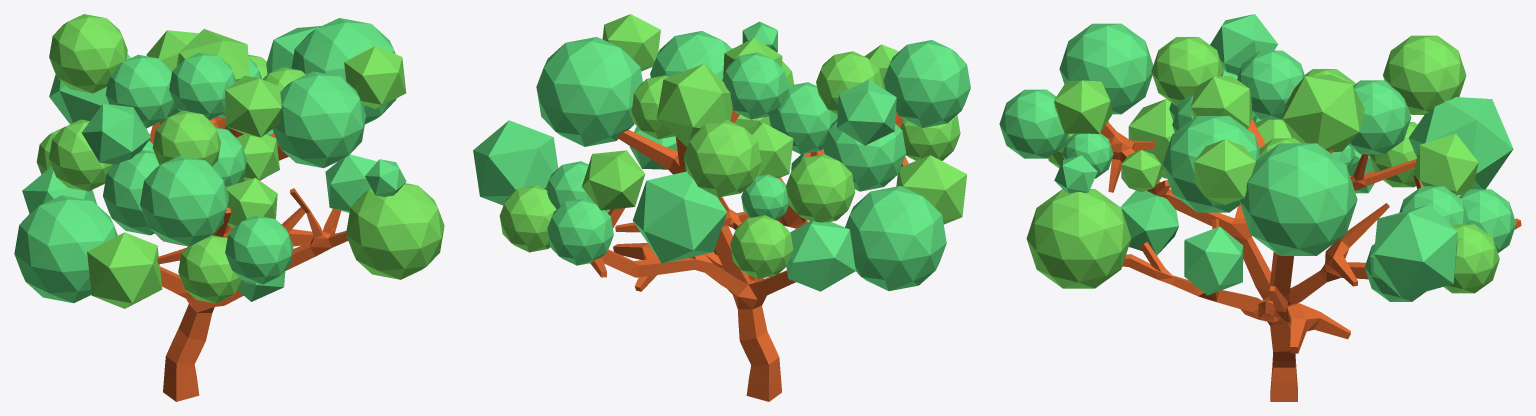
The model's file is arbol_tipo_1.fbx.
3 views of the same model, side by side, from view 1: azimuth 30°, elevation 25°; view 2: azimuth 150°, elevation 25°; view 3: azimuth 270°, elevation 25° (orthographic). The views are drawn at different scales.
Parts seen in each view (by area): view 1: Icosphere.016, Icosphere.035, Cube, Icosphere.022, Icosphere.007, Icosphere.037, Icosphere.006, Icosphere.021, Icosphere.010, Icosphere.020, Icosphere.013, Icosphere.008 (+19 smaller); view 2: Cube, Icosphere.021, Icosphere.016, Icosphere.018, Icosphere.007, Icosphere.025, Icosphere.037, Icosphere.015, Icosphere.017, Icosphere, Icosphere.030, Icosphere.001 (+19 smaller); view 3: Cube, Icosphere.021, Icosphere.035, Icosphere.025, Icosphere.007, Icosphere.015, Icosphere.018, Icosphere.037, Icosphere.022, Icosphere.010, Icosphere.005, Icosphere.020 (+19 smaller).
Part boxes in pixels (x1,y1,x2,y2): Icosphere.016: (14,195,117,303); Icosphere.035: (346,183,444,279); Cube: (149,116,348,401); Icosphere.022: (272,71,366,168); Icosphere.007: (140,156,228,246); Icosphere.037: (49,14,127,93); Icosphere.006: (87,232,162,308); Icosphere.021: (291,18,396,124); Icosphere.010: (225,215,293,284); Icosphere.020: (105,54,175,128); Icosphere.013: (169,52,236,120); Icosphere.008: (178,235,243,303); Cube: (590,110,908,401); Icosphere.021: (536,37,642,146); Icosphere.016: (845,186,946,291); Icosphere.018: (632,171,727,263); Icosphere.007: (883,40,970,127); Icosphere.025: (473,120,558,205); Icosphere.037: (684,120,761,197); Icosphere.015: (656,64,732,146); Icosphere.017: (786,221,855,291); Icosphere: (786,154,855,222); Icosphere.030: (547,198,613,265); Icosphere.001: (823,119,906,191); Cube: (1100,117,1521,401); Icosphere.021: (1239,143,1357,255); Icosphere.035: (1026,189,1131,288); Icosphere.025: (1373,205,1457,297); Icosphere.007: (1059,23,1153,114); Icosphere.015: (1282,74,1364,152); Icosphere.018: (1408,97,1513,189); Icosphere.037: (1383,35,1466,114); Icosphere.022: (1162,116,1259,212); Icosphere.010: (999,89,1068,158); Icosphere.005: (1151,37,1223,105); Icosphere.020: (1348,80,1411,154).
Bounding box in the file's own units: 1321 × 1071 × 1437.
